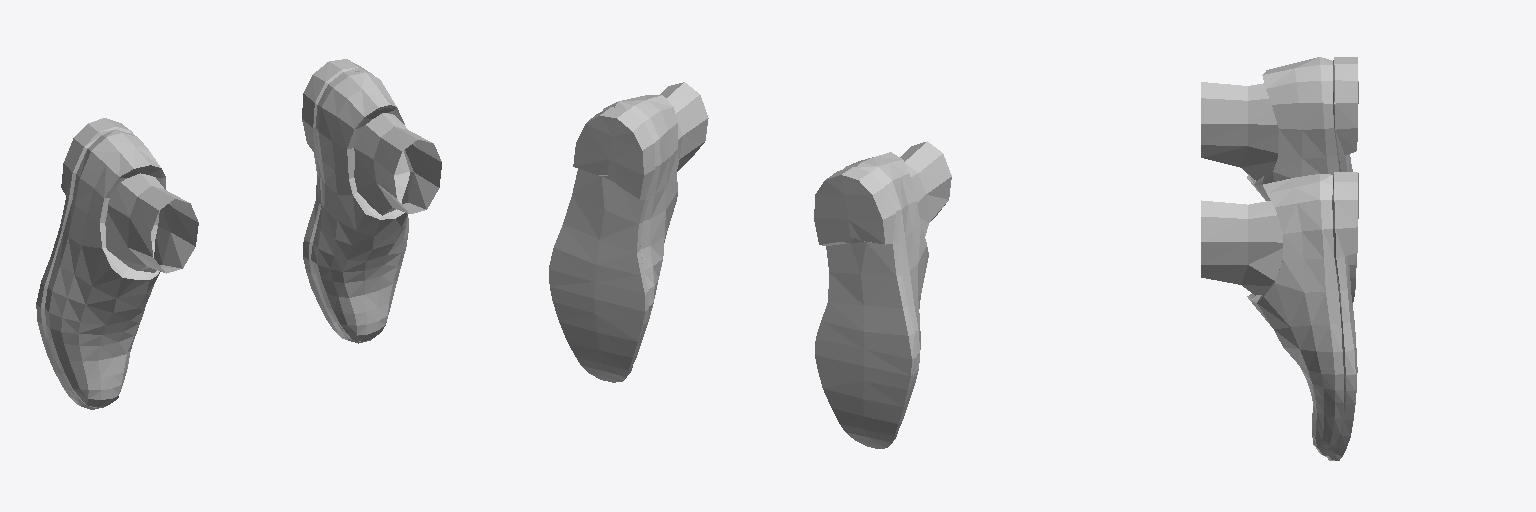
Rendered from feet_000_u_0.obj.
3 views of the same model, side by side, from view 1: azimuth 30°, elevation 25°; view 2: azimuth 150°, elevation 25°; view 3: azimuth 270°, elevation 25° (orthographic).
Bounding box in the file's own units: 0.4531 × 0.3296 × 0.1689.